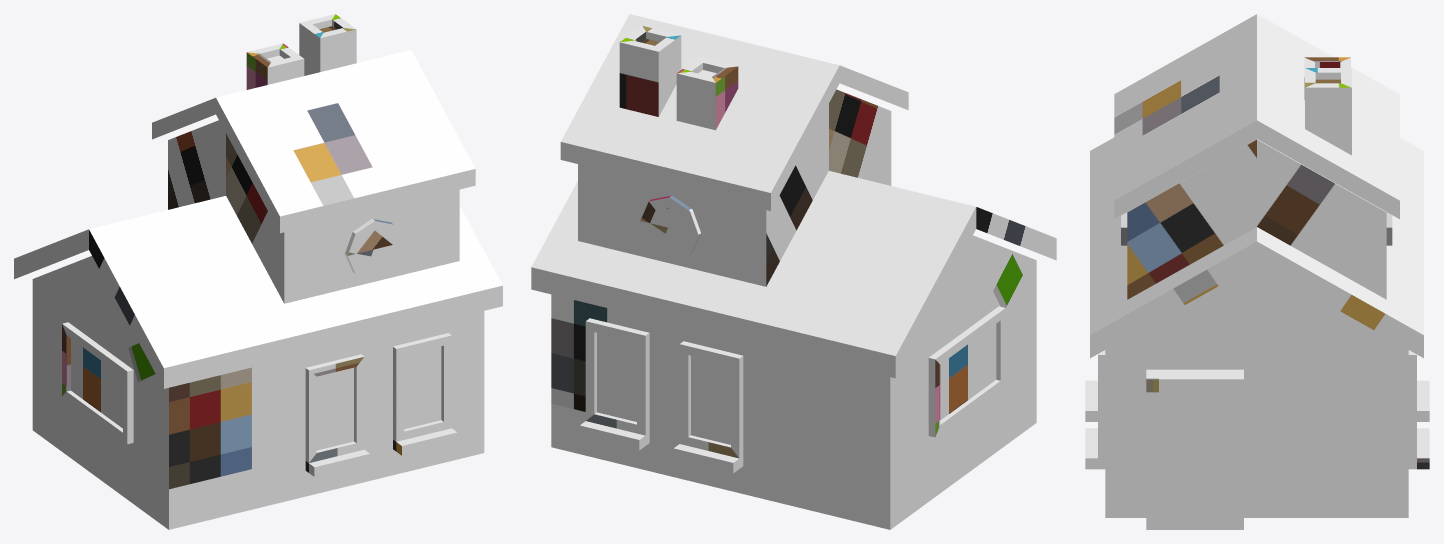
Rendered from House.glb.
3 views of the same model, side by side, from view 1: azimuth 30°, elevation 25°; view 2: azimuth 150°, elevation 25°; view 3: azimuth 270°, elevation 25° (orthographic). The views are drawn at different scales.
Parts seen in each view (by area): view 1: house; view 2: house; view 3: house.
Part boxes in pixels (x1,y1,x2,y2): house: (14, 14, 502, 529); house: (531, 14, 1056, 529); house: (1085, 14, 1429, 529).
Bounding box in the file's own units: 1.43 × 1.46 × 1.11.
1 material, 1 textured.
